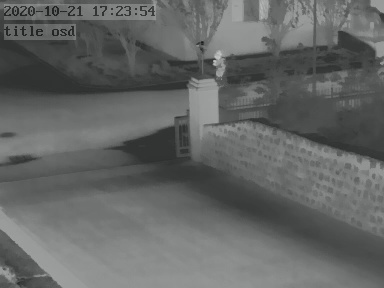person: (214, 49, 226, 77)
